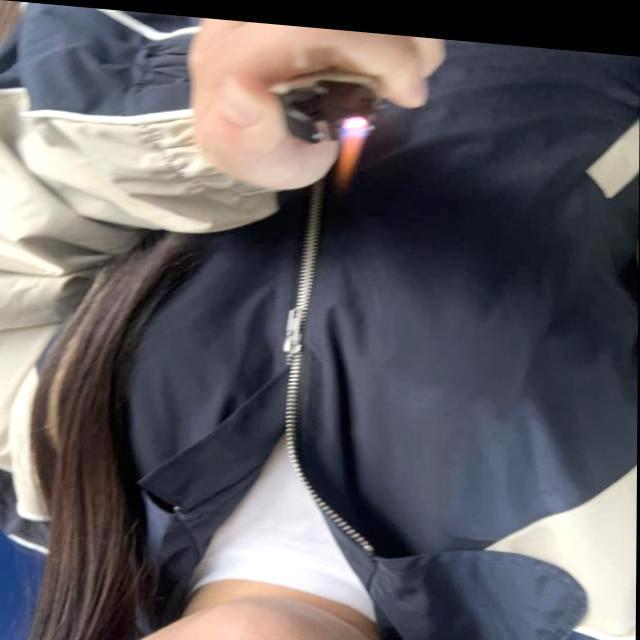fire: (338, 110, 374, 186)
